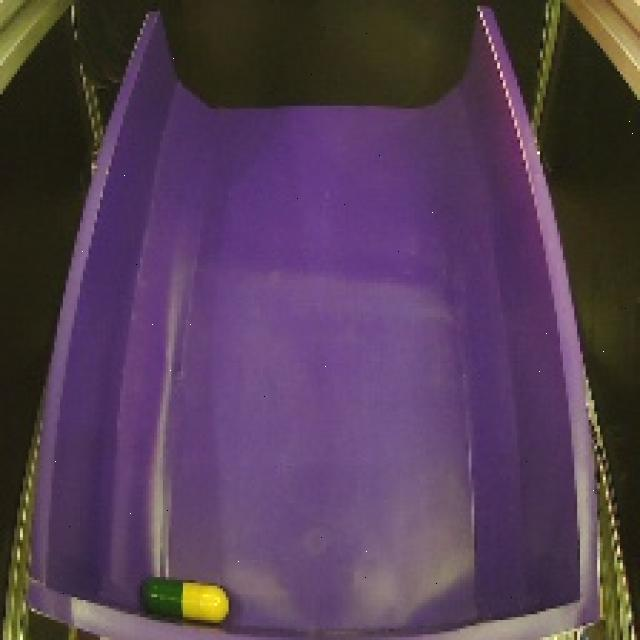small: (132, 565, 238, 635)
